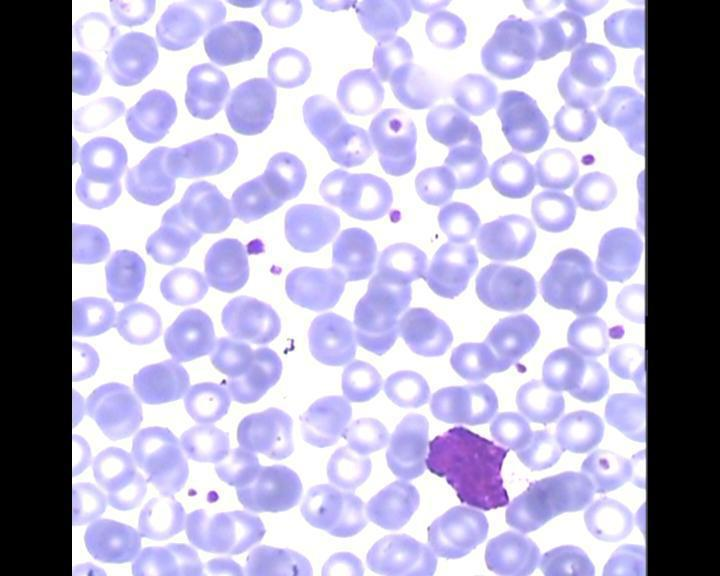baso: (423, 421, 518, 513)
